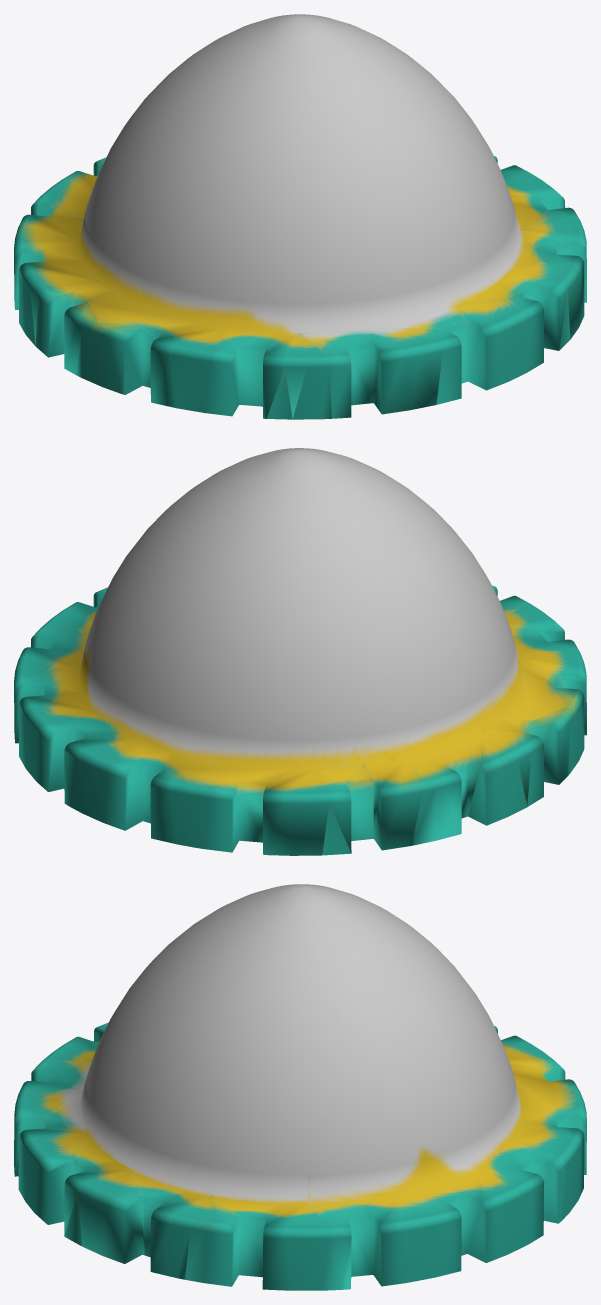
Rendered from parte1.glb.
3 renders of one model, top to bottom at view 1: azimuth 30°, elevation 25°; view 2: azimuth 150°, elevation 25°; view 3: azimuth 270°, elevation 25°, orthographic.
Visible parts, largest first — view 1: node_id5; view 2: node_id5; view 3: node_id5.
Boxes of the visible parts, left/top/right/bottom form: node_id5: left=14, top=14, right=586, bottom=419; node_id5: left=14, top=448, right=586, bottom=855; node_id5: left=14, top=884, right=586, bottom=1290.
Size of the model in its own units: 0.1607 by 0.0879 by 0.1608.
Materials: 1 (1 with a texture image).
